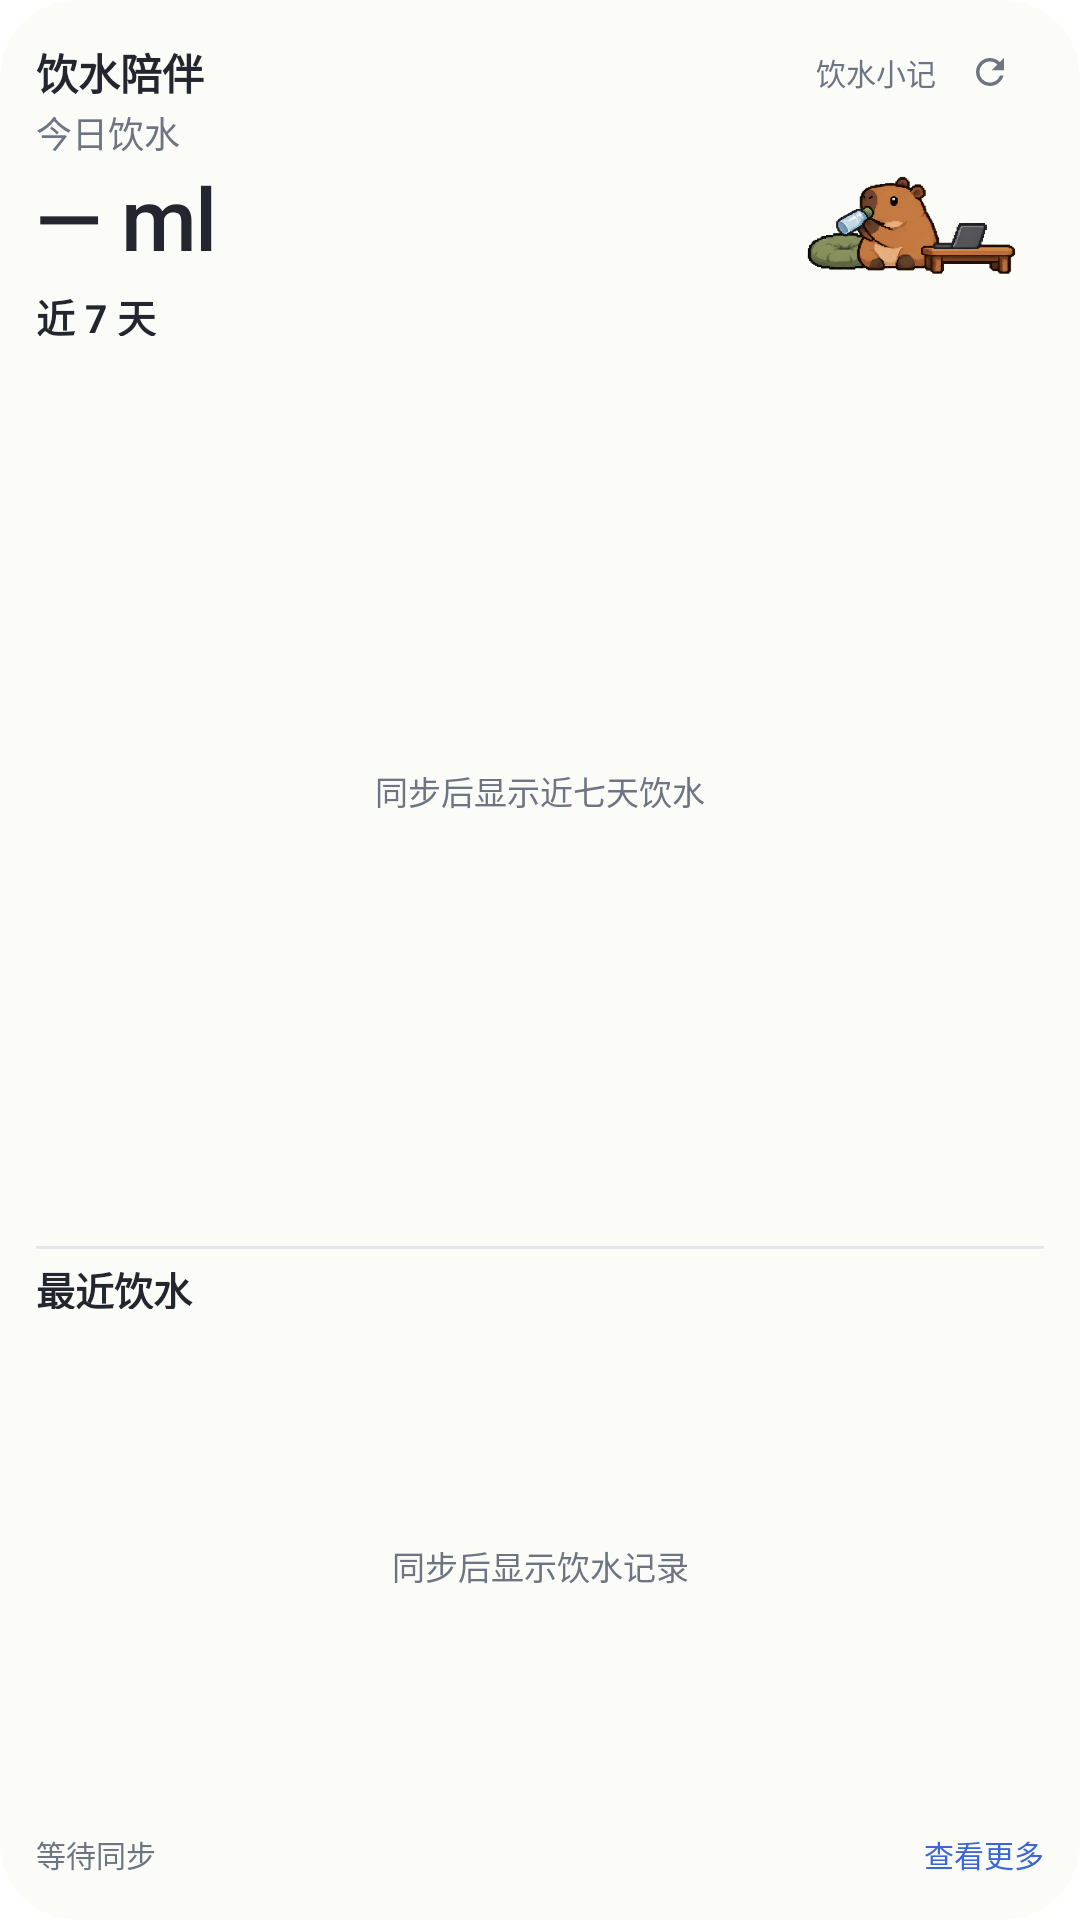

Where to tap for icons on this 1080w x 1920h app screen, as (x=x, y=y):
喝水的小水豚: (x=911, y=225)
